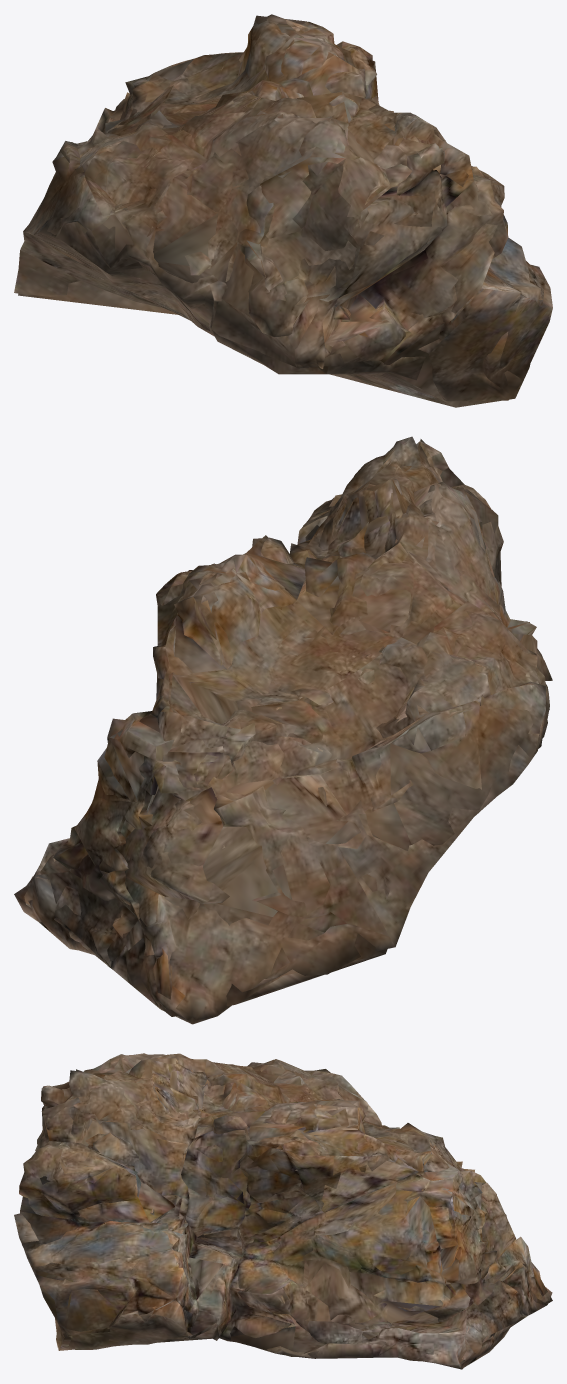
File: boulder_01.glb
3 renders of one model, top to bottom at view 1: azimuth 30°, elevation 25°; view 2: azimuth 150°, elevation 25°; view 3: azimuth 270°, elevation 25°, orthographic. The views are drawn at different scales.
Parts seen in each view (by area): view 1: boulder_01, CoastalShoreLOD; view 2: boulder_01, CoastalShoreLOD; view 3: boulder_01, CoastalShoreLOD.
Boxes of the visible parts, x1,y1,x2,y2 form: boulder_01: [14, 14, 552, 401]; CoastalShoreLOD: [18, 15, 544, 407]; boulder_01: [14, 436, 552, 1024]; CoastalShoreLOD: [24, 438, 543, 1016]; boulder_01: [14, 1053, 552, 1369]; CoastalShoreLOD: [20, 1054, 552, 1366].
Bounding box in the file's own units: 1.28 × 0.9974 × 1.83.
Materials: 1 (1 with a texture image).
